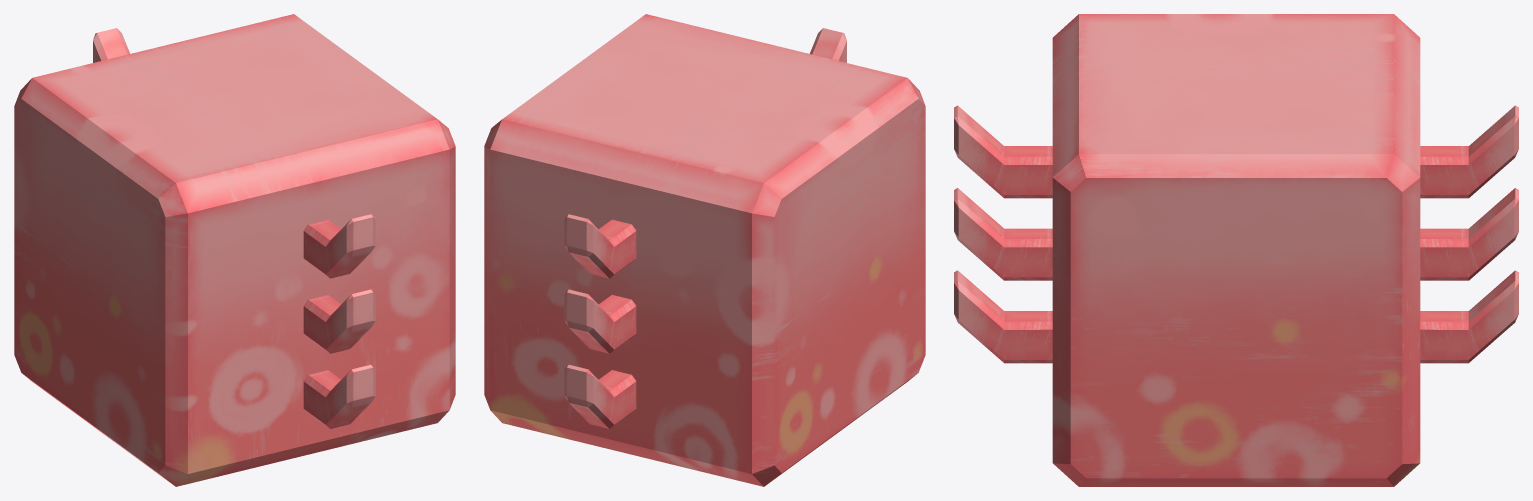
The model's file is worm_totem_leg.fbx.
3 renders of one model, left to right at view 1: azimuth 30°, elevation 25°; view 2: azimuth 150°, elevation 25°; view 3: azimuth 270°, elevation 25°, orthographic. The views are drawn at different scales.
Visible parts, largest first — view 1: Cube.006, Cube.006.frozen; view 2: Cube.006, Cube.006.frozen; view 3: Cube.006, Cube.006.frozen.
Boxes of the visible parts, x1,y1,x2,y2 form: Cube.006: (14, 14, 455, 486); Cube.006.frozen: (93, 28, 375, 428); Cube.006: (484, 14, 925, 486); Cube.006.frozen: (564, 28, 846, 428); Cube.006: (1052, 14, 1420, 486); Cube.006.frozen: (954, 105, 1518, 363).
Size of the model in its own units: 100 by 100 by 154.
Materials: 2 (2 with a texture image).
